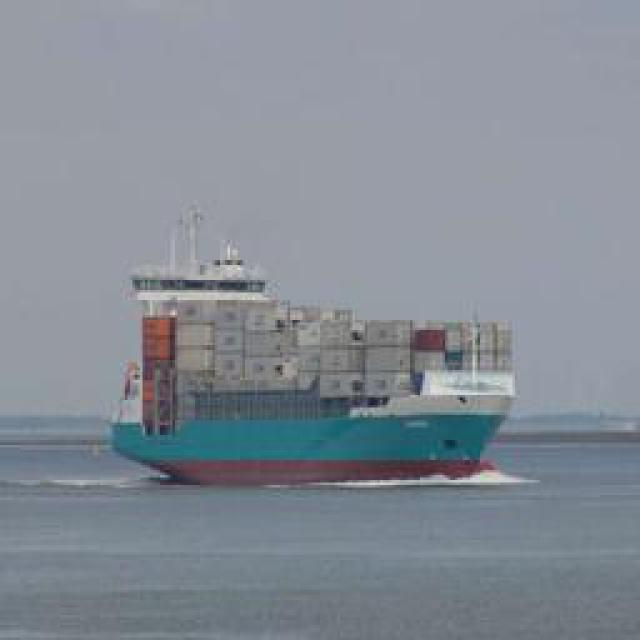Ship: (110, 227, 525, 487)
